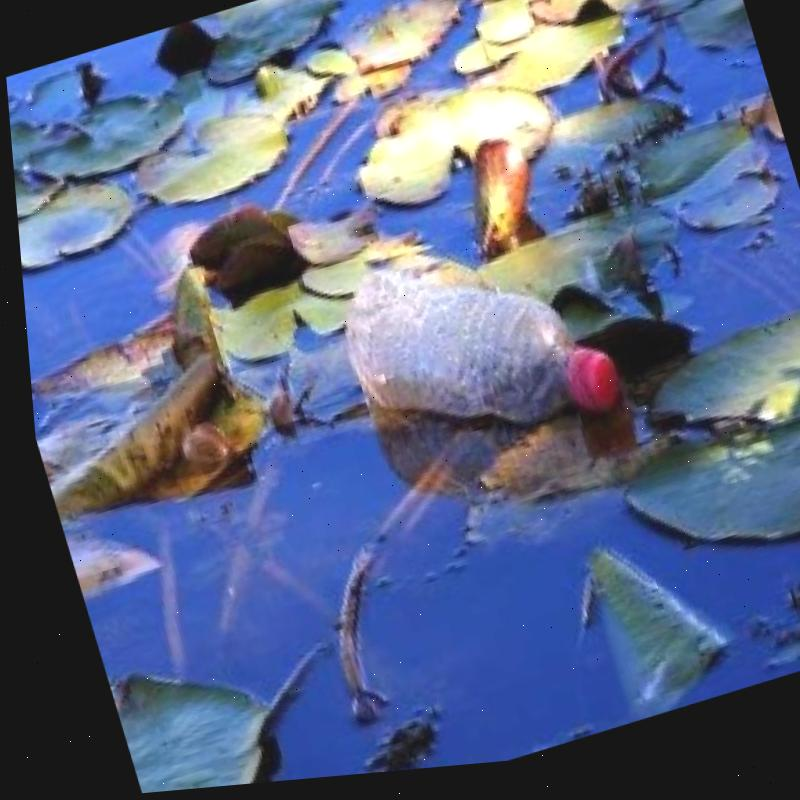botella: (314, 222, 621, 486)
